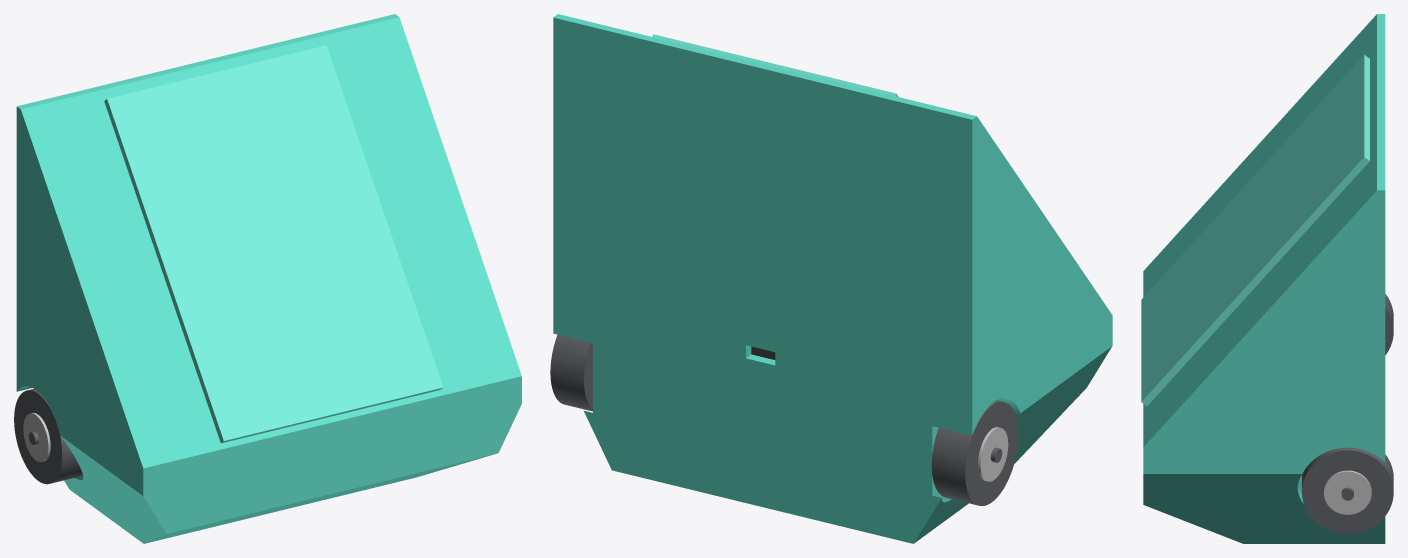
File: hot_flip.glb
3 views of the same model, side by side, from view 1: azimuth 30°, elevation 25°; view 2: azimuth 150°, elevation 25°; view 3: azimuth 270°, elevation 25° (orthographic). The views are drawn at different scales.
Parts seen in each view (by area): view 1: chassis, flipper, wheel_r0, dt_hub_wheel_r0; view 2: chassis, wheel_r0, wheel_l0, dt_hub_wheel_r0, flipper; view 3: chassis, flipper, wheel_l0, dt_hub_wheel_l0, wheel_r0.
Part boxes in pixels (left/top/right/bottom): chassis: left=16, top=14, right=521, bottom=543; flipper: left=104, top=45, right=443, bottom=443; wheel_r0: left=14, top=389, right=82, bottom=484; dt_hub_wheel_r0: left=23, top=412, right=50, bottom=462; chassis: left=553, top=14, right=1112, bottom=543; wheel_r0: left=931, top=400, right=1018, bottom=505; wheel_l0: left=550, top=334, right=592, bottom=411; dt_hub_wheel_r0: left=978, top=427, right=1008, bottom=481; flipper: left=652, top=34, right=898, bottom=96; chassis: left=1143, top=14, right=1385, bottom=543; flipper: left=1141, top=54, right=1369, bottom=405; wheel_l0: left=1302, top=447, right=1393, bottom=533; dt_hub_wheel_l0: left=1324, top=470, right=1371, bottom=514; wheel_r0: left=1385, top=294, right=1393, bottom=354.
Size of the model in its own units: 102 by 100 by 60.49.
